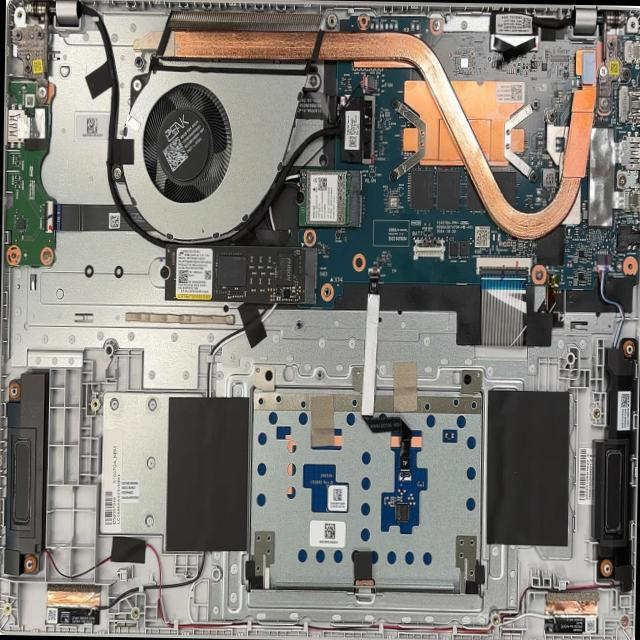Battery: (165, 242, 317, 306)
